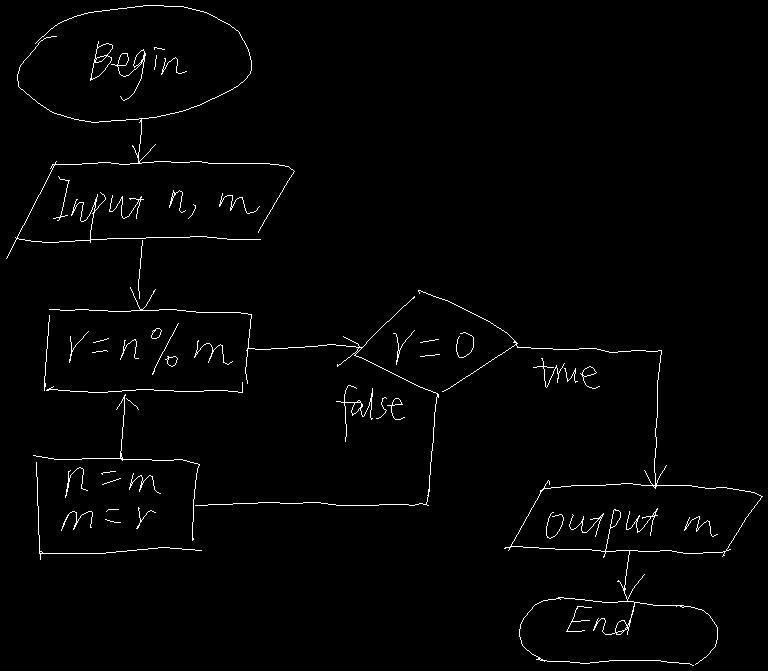arrow: (195, 393, 438, 505), (513, 341, 666, 488), (246, 336, 361, 366), (130, 240, 155, 310), (116, 394, 138, 460), (617, 551, 644, 600), (132, 118, 155, 163)
data: (6, 161, 294, 258), (504, 480, 762, 556)
decision: (354, 290, 517, 393)
process: (33, 455, 201, 559), (44, 309, 251, 392)
terminator: (17, 5, 251, 122), (519, 597, 717, 665)
text: (53, 176, 259, 242), (546, 508, 717, 557), (69, 323, 232, 374), (61, 467, 160, 530), (90, 41, 186, 100), (336, 385, 404, 441), (393, 330, 473, 364), (566, 603, 634, 634), (533, 358, 599, 388)
